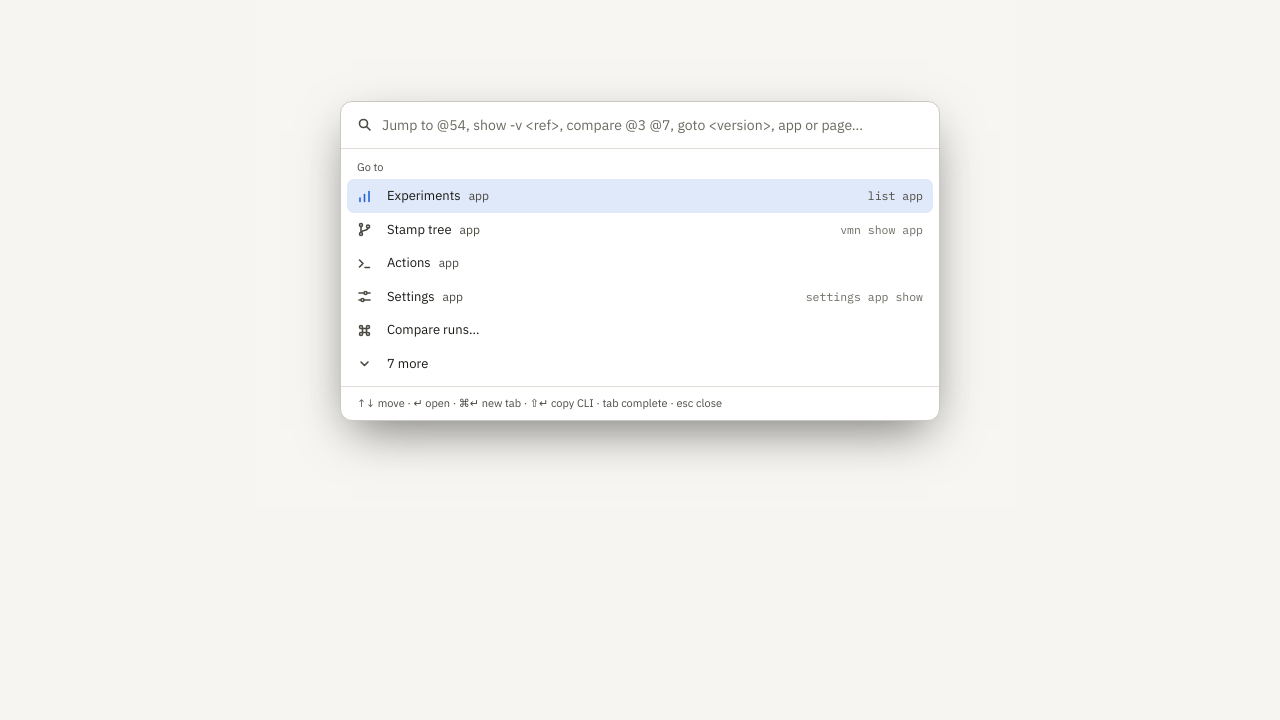
CommandPalette › goes to any run through the server's run search, debounced (plan 23 W11)
The width and height of the screenshot is (1280, 720).
Replace the text in the dropdown with placeholder "Jump to" with "t1903" at coordinates (652, 125), box [382,102,923,148]
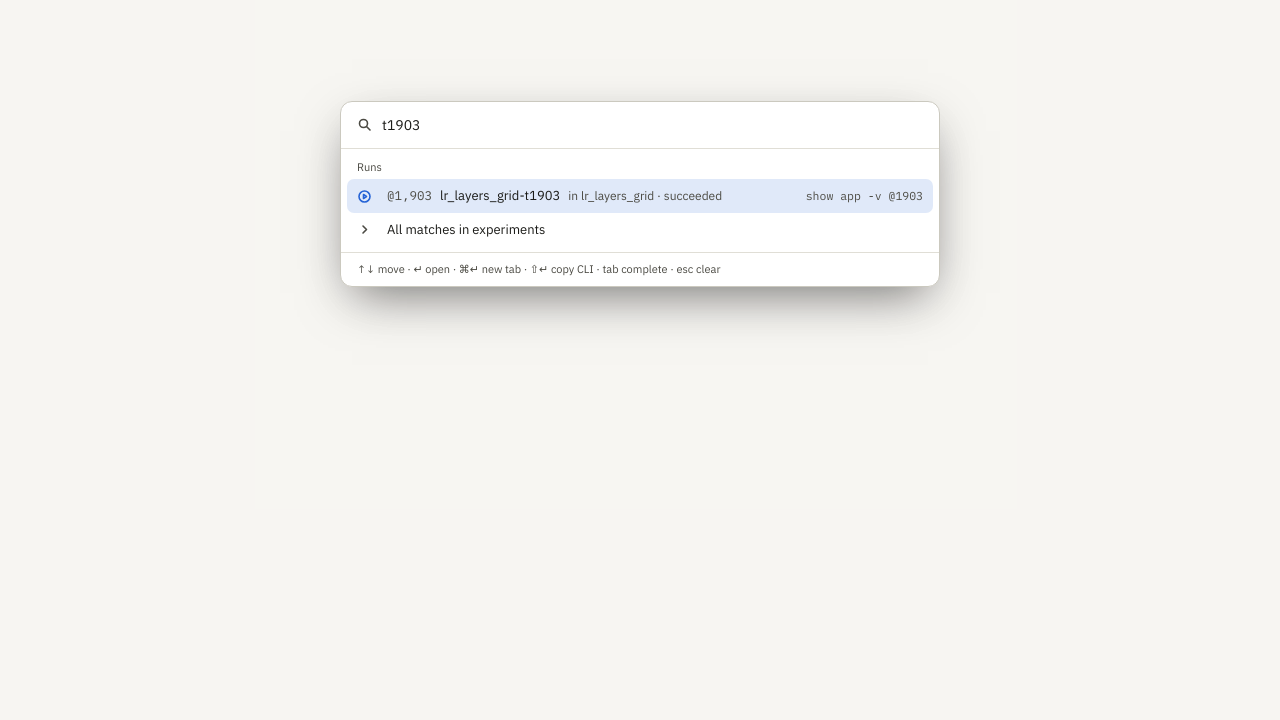
Now the option "lr_layers_grid-t1903" shows "@1,903", box [347,179,933,213]
Now the option "lr_layers_grid-t1903" shows "in lr_layers_grid", box [347,179,933,213]
